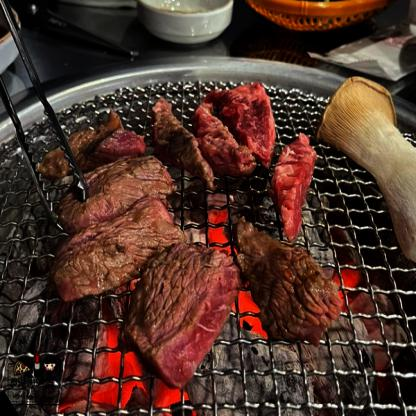Carne: (133, 239, 234, 387), (53, 194, 180, 300), (250, 247, 343, 346), (55, 157, 168, 230), (147, 101, 203, 177)
